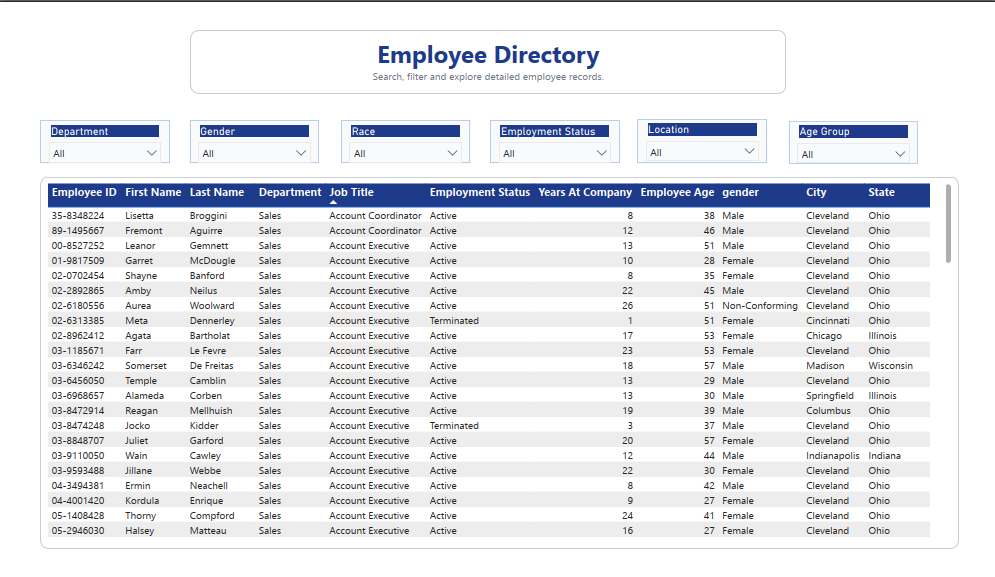

Layout of this report page (visuals, bound fields, positions):
{"tool":"powerbi","page":{"name":"Employee Directory","canvas":[1280,720],"ordinal":2},"visuals":[{"type":"tableEx","fields":{"Values":["HR.id","HR.first_name","HR.last_name","HR.department","HR.jobtitle","HR.EmploymentStatus","HR.YearsAtCompany","HR.Age","HR.gender","HR.location_city","HR.location_state"]},"box":[30.1,209.4,1223.7,496],"z":0},{"type":"slicer","fields":{"Values":["HR.EmploymentStatus"]},"box":[629.7,133.7,172,57.7],"z":1000},{"type":"slicer","fields":{"Values":["HR.gender"]},"box":[228.8,133.7,172,57.7],"z":2000},{"type":"slicer","fields":{"Values":["HR.location_state"]},"box":[826.3,132.4,172.2,59.1],"z":3000},{"type":"slicer","fields":{"Values":["HR.AgeGroup"]},"box":[1028.1,134.9,172,57],"z":4000},{"type":"slicer","fields":{"Values":["HR.department"]},"box":[29.6,133.7,172.2,57.8],"z":5000},{"type":"slicer","fields":{"Values":["HR.race"]},"box":[430.5,133.7,172.2,57.8],"z":6000},{"type":"textbox","box":[230,14,794,84],"z":7000}]}

Visuals, with their boxes on the page's 1280x720 design canvas (x1, y1, x2, y2). These are canvas units, not pixel positions in the 995x577 screenshot, which may show the page scaled, cropped or inside an application window:
tableEx - HR.id x HR.first_name: <region>30, 209, 1254, 705</region>
slicer - HR.EmploymentStatus: <region>630, 134, 802, 191</region>
slicer - HR.gender: <region>229, 134, 401, 191</region>
slicer - HR.location_state: <region>826, 132, 998, 192</region>
slicer - HR.AgeGroup: <region>1028, 135, 1200, 192</region>
slicer - HR.department: <region>30, 134, 202, 192</region>
slicer - HR.race: <region>430, 134, 603, 192</region>
textbox: <region>230, 14, 1024, 98</region>
